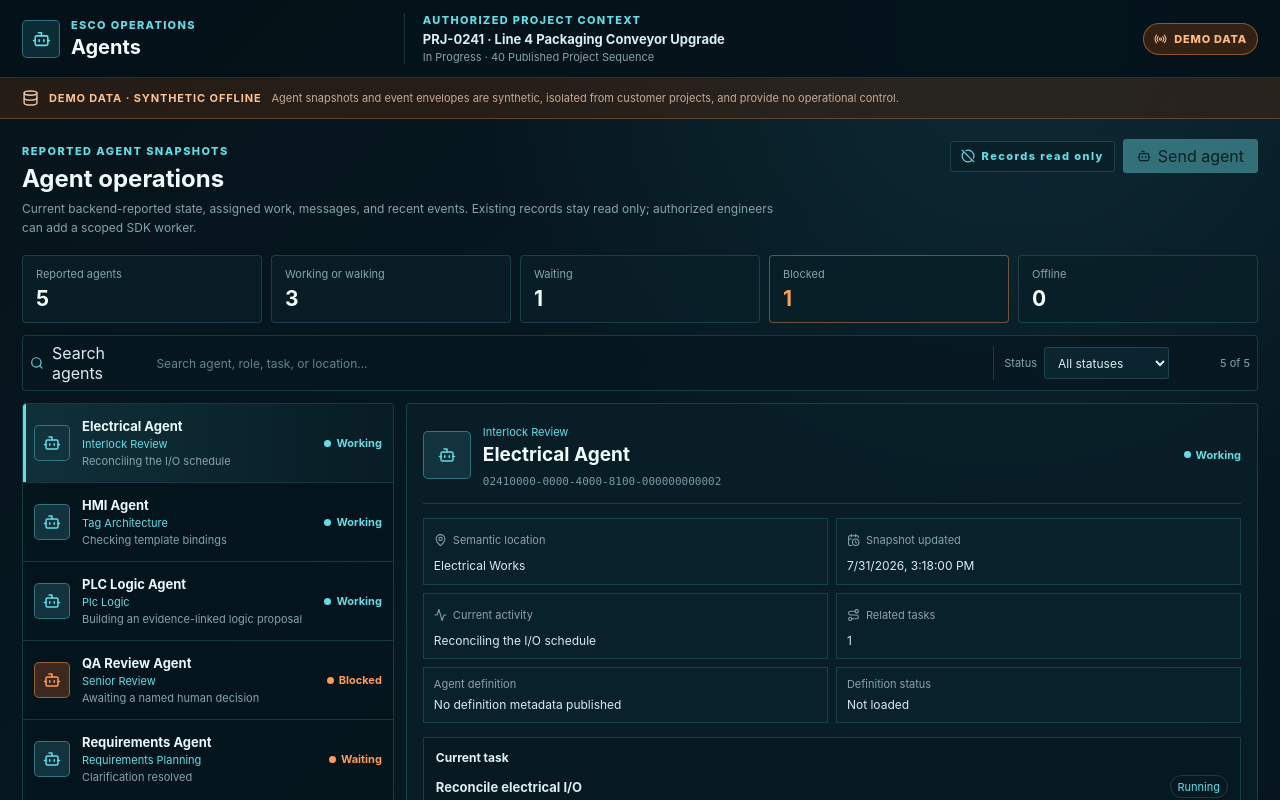
OperationsCenter › renders an honest, filterable read-only agent surface and supports city navigation
Later steps or results of the test are not shown.
Expected: the text "DEMO DATA · SYNTHETIC OFFLINE" is shown, [49, 91, 262, 105]
Expected: the heading "Agent operations" is shown, [22, 164, 224, 193]
In the field with placeholder "Search agent, role, task, or location…": (569, 363) [154, 346, 984, 380], type "electrical"
(page scrolled)
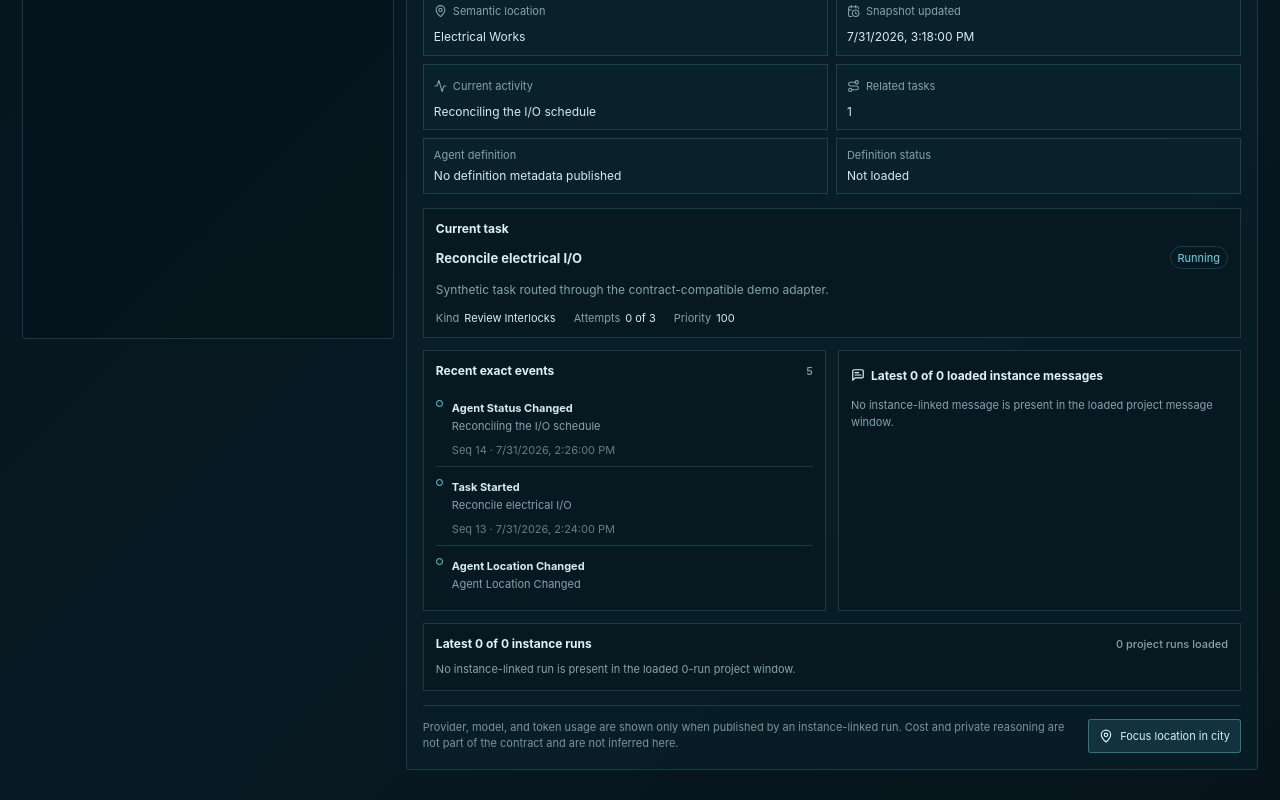
Expected: the button "Requirements Agent" is gone
